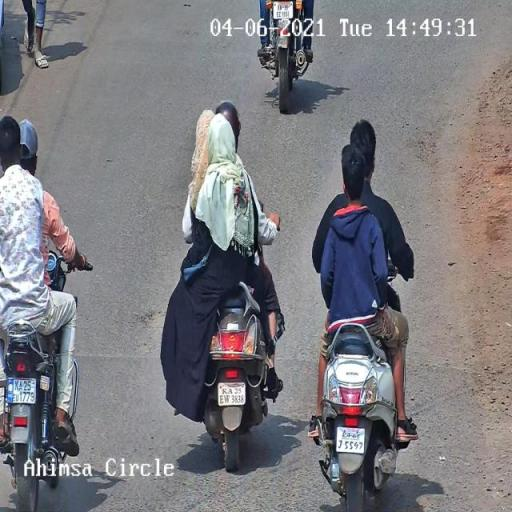tripple riding: (169, 95, 284, 302)
